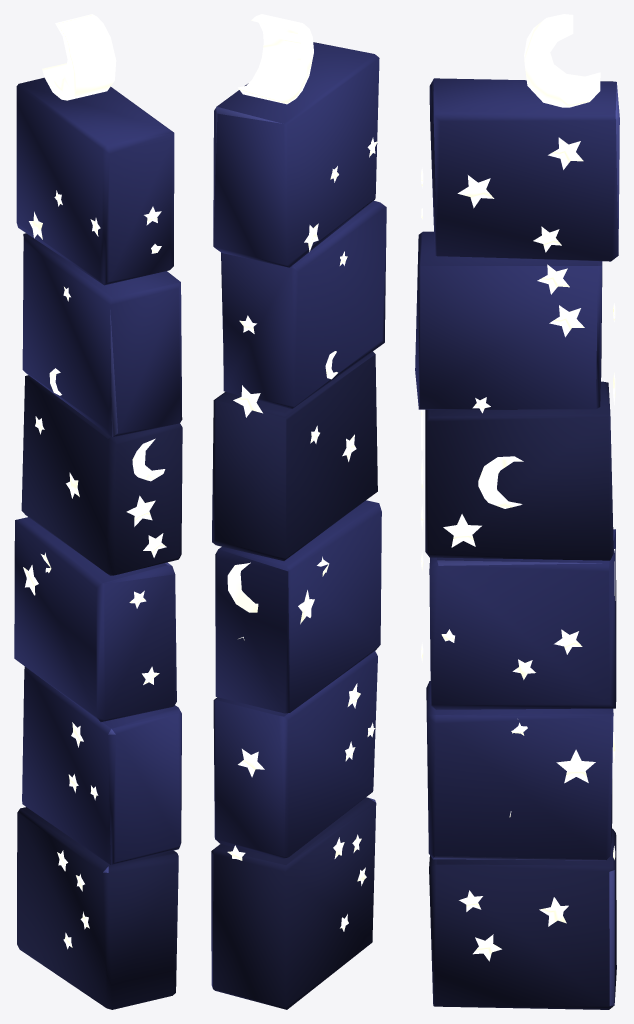
File: den_night_tower_lod1.glb
3 renders of one model, left to right at view 1: azimuth 30°, elevation 25°; view 2: azimuth 150°, elevation 25°; view 3: azimuth 270°, elevation 25°, orthographic. The views are drawn at different scales.
Visible parts, largest first — view 1: den_night_tower.001; view 2: den_night_tower.001; view 3: den_night_tower.001.
Part boxes in pixels (x1,y1,x2,y2): den_night_tower.001: (14, 14, 182, 1009); den_night_tower.001: (211, 14, 386, 1009); den_night_tower.001: (415, 14, 619, 1009).
Size of the model in its own units: 2.65 by 28.03 by 5.37.
